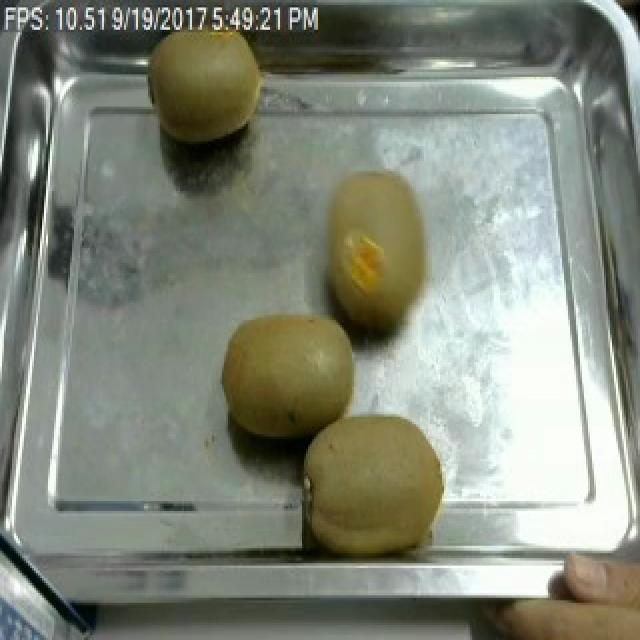Fruit: (312, 159, 442, 347), (298, 404, 456, 558), (214, 300, 368, 447), (142, 10, 270, 154)
